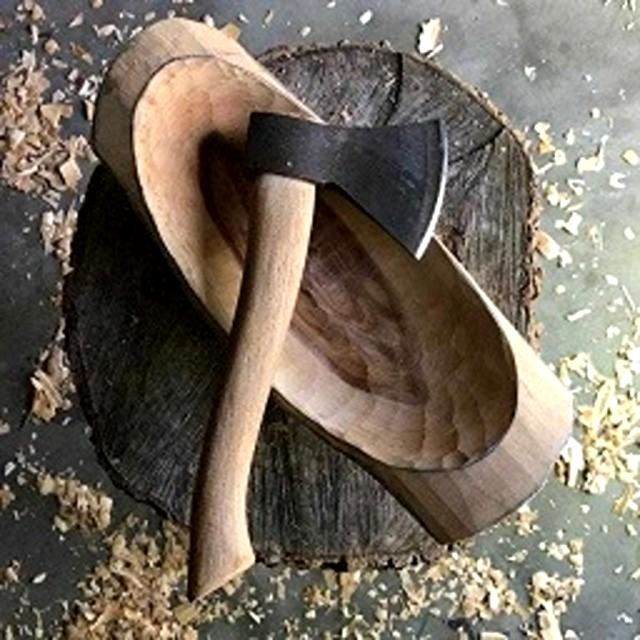ax: (176, 97, 464, 611)
